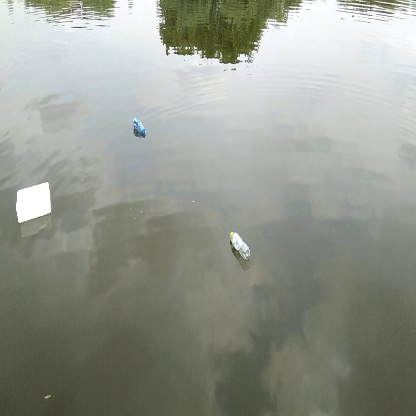bottle: (226, 227, 254, 264), (125, 115, 148, 143)
plastic-garbage: (9, 181, 58, 225)
